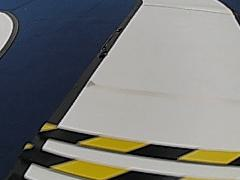bump: (28, 126, 240, 180)
